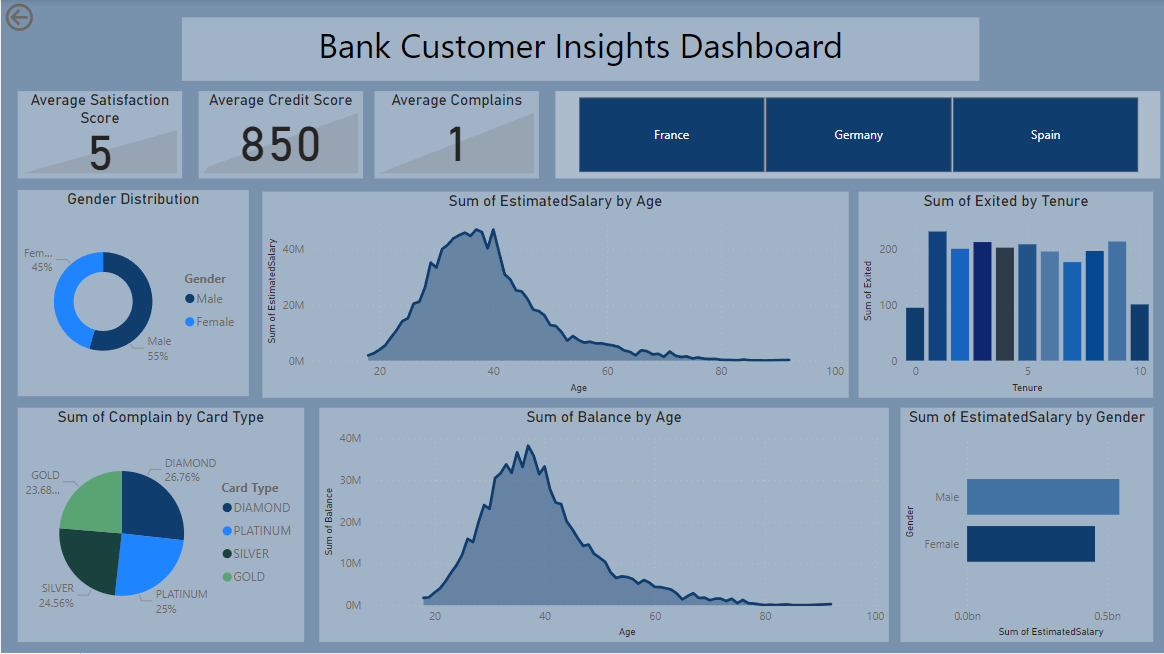

The dashboard page shown, as its layout file describes it:
{"tool":"powerbi","page":{"name":"Page 1","canvas":[1280,720],"ordinal":0},"visuals":[{"type":"actionButton","box":[0,0,100,40],"z":0},{"type":"slicer","fields":{"Values":["Customer-Churn-Records.Geography"]},"box":[610.2,101.4,665.5,95.9],"z":1000},{"type":"donutChart","title":"Gender Distribution","fields":{"Category":["Customer-Churn-Records.Gender"],"Y":["CountNonNull(Customer-Churn-Records.Gender)"]},"box":[18.4,210.2,254.4,226.7],"z":2000},{"type":"stackedAreaChart","fields":{"Category":["Customer-Churn-Records.Age"],"Y":["Sum(Customer-Churn-Records.EstimatedSalary)"]},"box":[287.6,212,645.2,226.7],"z":3000},{"type":"columnChart","fields":{"Category":["Customer-Churn-Records.Tenure"],"Y":["Sum(Customer-Churn-Records.Exited)"]},"box":[943.8,212,324.4,226.7],"z":4000},{"type":"areaChart","fields":{"Category":["Customer-Churn-Records.Age"],"Y":["Sum(Customer-Churn-Records.Balance)"]},"box":[350.3,449.8,626.8,258.1],"z":5000},{"type":"pieChart","fields":{"Category":["Customer-Churn-Records.Card Type"],"Y":["Sum(Customer-Churn-Records.Complain)"]},"box":[18.4,449.8,315.2,258.1],"z":6000},{"type":"barChart","fields":{"Category":["Customer-Churn-Records.Gender"],"Y":["Sum(Customer-Churn-Records.EstimatedSalary)"]},"box":[989.9,449.8,278.4,258.1],"z":7000},{"type":"kpi","title":"Average Satisfaction Score","fields":{"TrendLine":["Customer-Churn-Records.Satisfaction Score"],"Indicator":["Avg(Customer-Churn-Records.Satisfaction Score)"]},"box":[18.4,101.4,180.7,95.9],"z":8000},{"type":"kpi","title":"Average Credit Score","fields":{"Indicator":["Avg(Customer-Churn-Records.CreditScore)"],"TrendLine":["Customer-Churn-Records.CreditScore"]},"box":[217.5,101.4,180.7,95.9],"z":9000},{"type":"kpi","title":"Average Complains","fields":{"Indicator":["Avg(Customer-Churn-Records.Complain)"],"TrendLine":["Customer-Churn-Records.Complain"]},"box":[411.1,101.4,180.7,95.9],"z":10000},{"type":"textbox","box":[199.1,20.3,877.5,70.1],"z":11000}]}

Visuals, with their boxes in screenshot pixels (x1, y1, x2, y2), scaled from the page's 1280x720 canvas onto the 1164x654 screenshot:
actionButton: left=0, top=0, right=91, bottom=36
slicer - Customer-Churn-Records.Geography: left=555, top=92, right=1160, bottom=179
"Gender Distribution" donutChart: left=17, top=191, right=248, bottom=397
stackedAreaChart - Customer-Churn-Records.Age x Sum(Customer-Churn-Records.EstimatedSalary): left=262, top=193, right=848, bottom=398
columnChart - Customer-Churn-Records.Tenure x Sum(Customer-Churn-Records.Exited): left=858, top=193, right=1153, bottom=398
areaChart - Customer-Churn-Records.Age x Sum(Customer-Churn-Records.Balance): left=319, top=409, right=889, bottom=643
pieChart - Customer-Churn-Records.Card Type x Sum(Customer-Churn-Records.Complain): left=17, top=409, right=303, bottom=643
barChart - Customer-Churn-Records.Gender x Sum(Customer-Churn-Records.EstimatedSalary): left=900, top=409, right=1153, bottom=643
"Average Satisfaction Score" kpi: left=17, top=92, right=181, bottom=179
"Average Credit Score" kpi: left=198, top=92, right=362, bottom=179
"Average Complains" kpi: left=374, top=92, right=538, bottom=179
textbox: left=181, top=18, right=979, bottom=82
